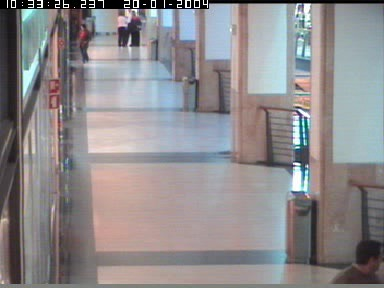person: (328, 238, 381, 284), (127, 11, 142, 47), (77, 23, 89, 64), (373, 242, 383, 283), (117, 11, 127, 47)
